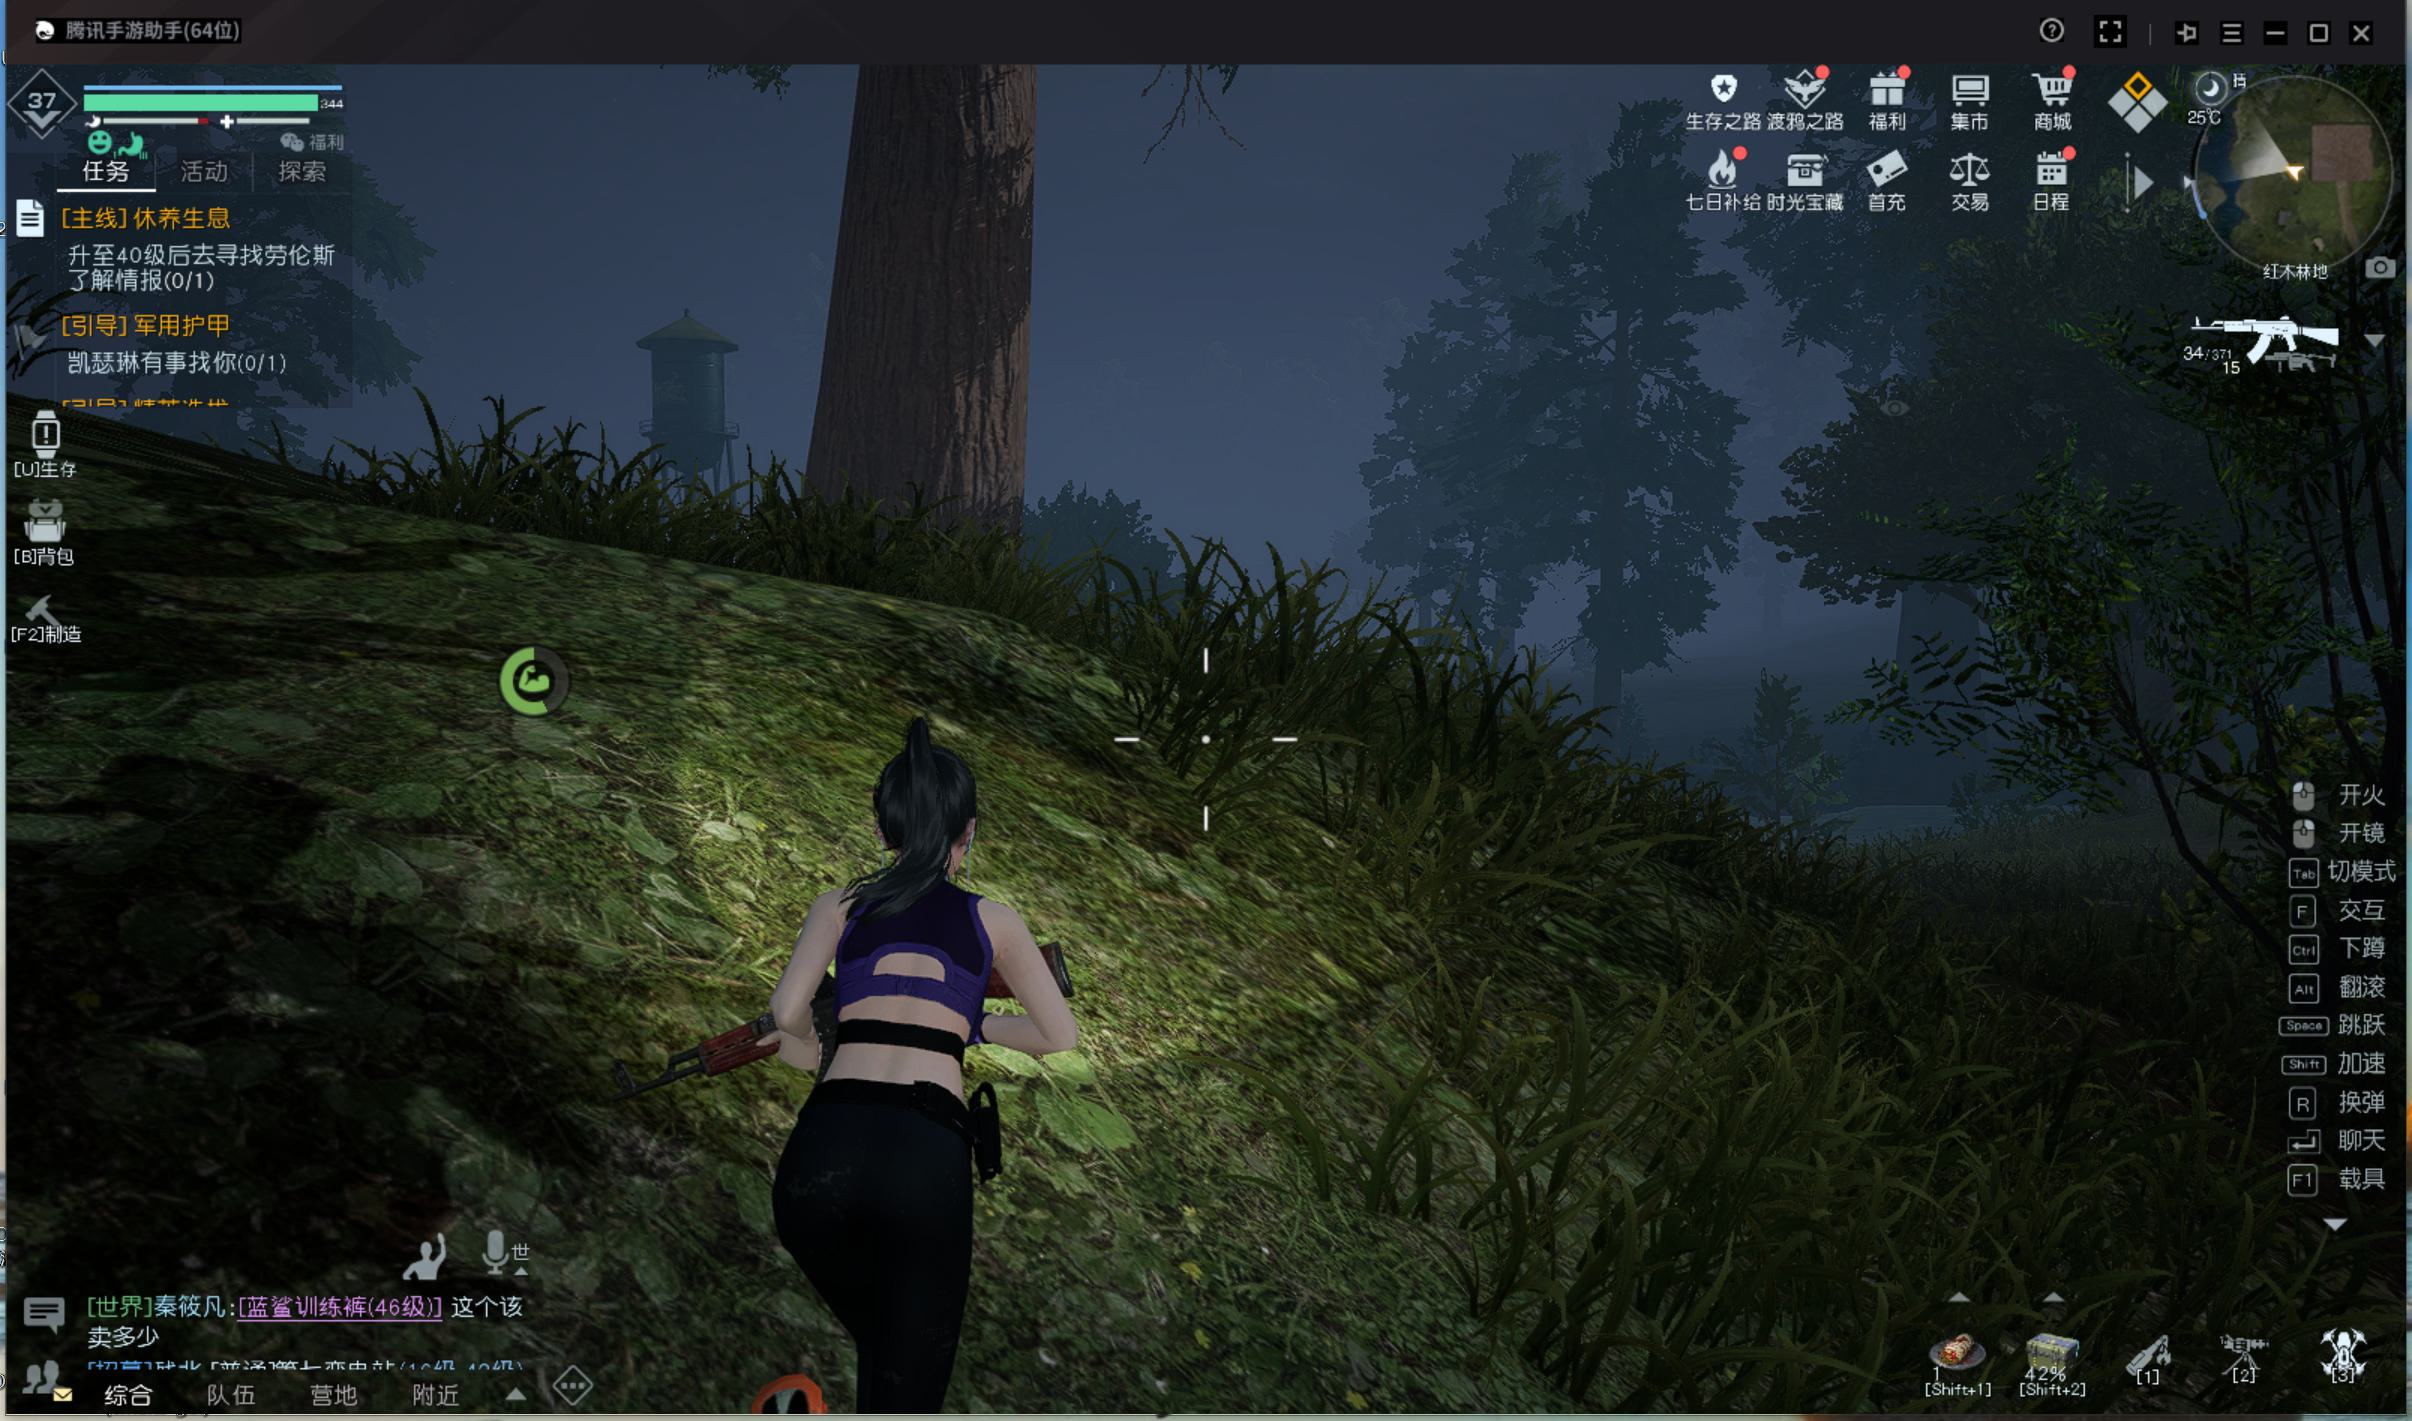tree: (797, 107, 1044, 619), (1587, 448, 1631, 734)
